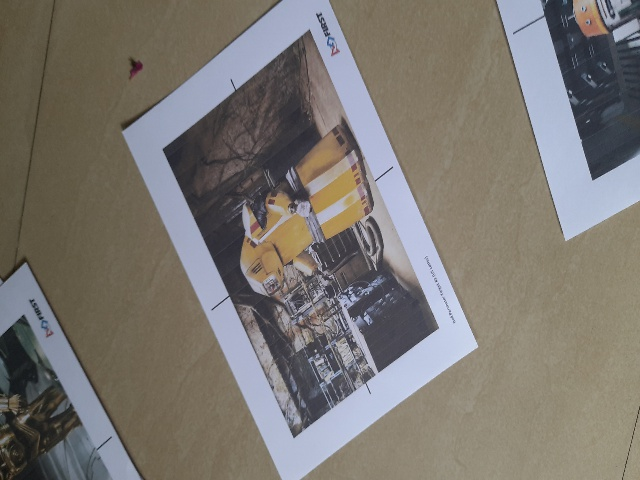rpt2: (112, 61, 515, 441)
